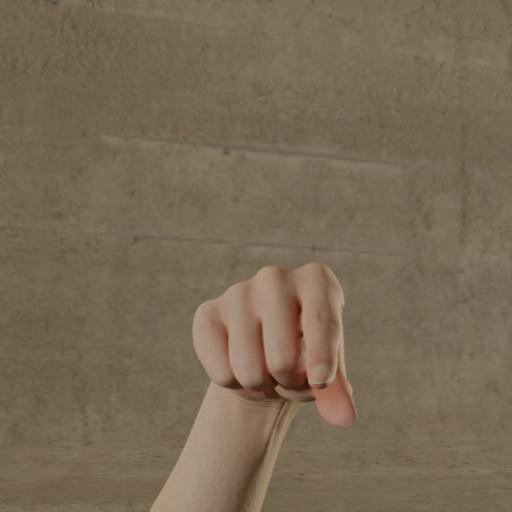Q: (173, 244, 378, 464)
